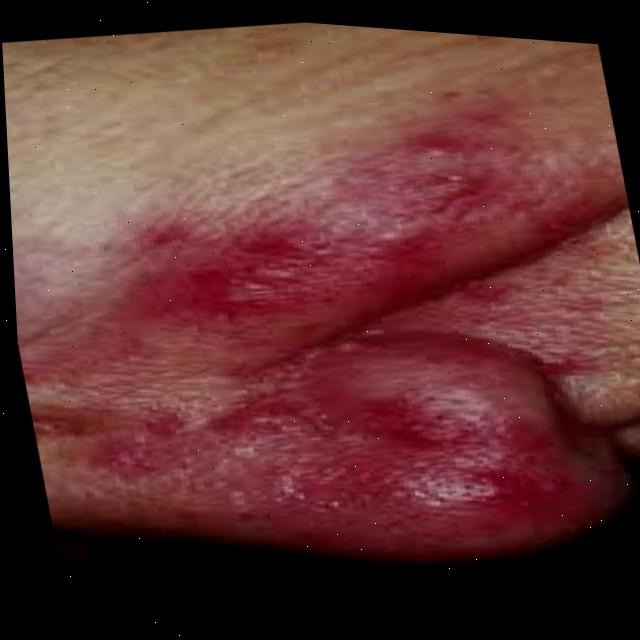Rosacea: (3, 60, 639, 605)
